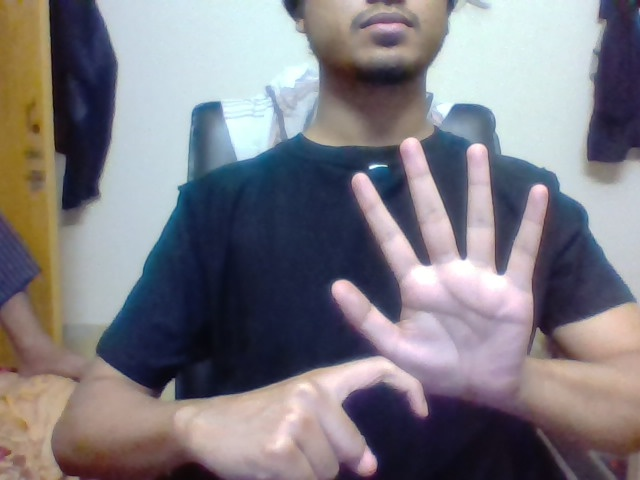R: (306, 353, 429, 473)
